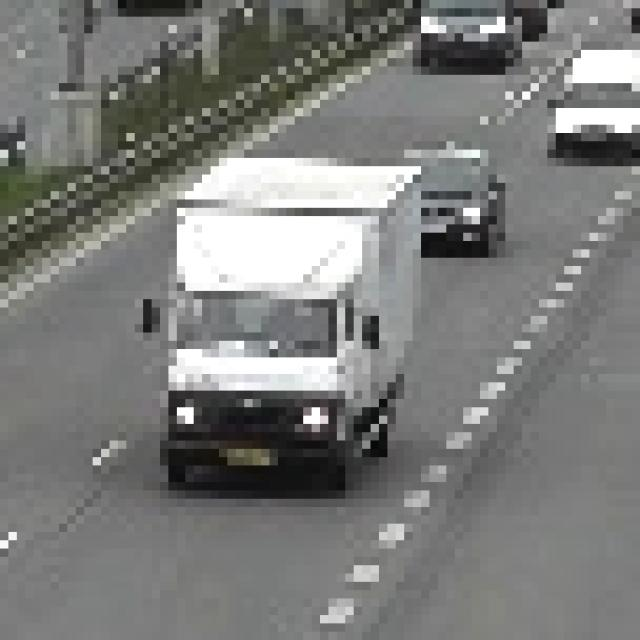truck: (136, 151, 414, 475)
